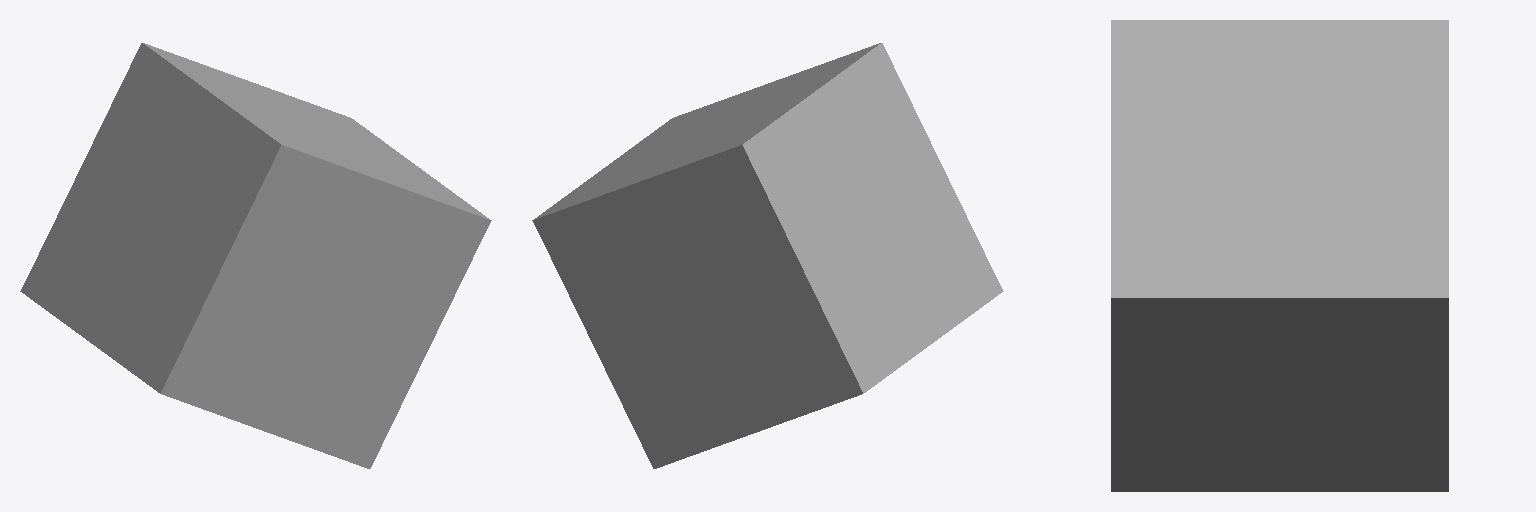
robot.urdf — turtlebot3_burger:
<?xml version="1.0" ?>
<robot name="turtlebot3_burger"
  xmlns:xacro="http://ros.org/wiki/xacro">
  <!-- <xacro:include filename="$(find turtlebot3_description)/urdf/common_properties.urdf"/> -->

  <!-- Init colour -->
  <material name="black">
      <color rgba="0.0 0.0 0.0 1.0"/>
  </material>

  <material name="dark">
    <color rgba="0.3 0.3 0.3 1.0"/>
  </material>

  <material name="light_black">
    <color rgba="0.4 0.4 0.4 1.0"/>
  </material>

  <material name="blue">
    <color rgba="0.0 0.0 0.8 1.0"/>
  </material>

  <material name="green">
    <color rgba="0.0 0.8 0.0 1.0"/>
  </material>

  <material name="grey">
    <color rgba="0.5 0.5 0.5 1.0"/>
  </material>

  <material name="orange">
    <color rgba="1.0 0.4235 0.0392 1.0"/>
  </material>

  <material name="brown">
    <color rgba="0.8706 0.8118 0.7647 1.0"/>
  </material>

  <material name="red">
    <color rgba="0.8 0.0 0.0 1.0"/>
  </material>

  <material name="white">
    <color rgba="1.0 1.0 1.0 1.0"/>
  </material>

  <link name="base_footprint"/>

  <joint name="base_joint" type="fixed">
    <parent link="base_footprint"/>
    <child link="base_link"/>
    <origin xyz="0.0 0.0 0.010" rpy="0 0 0"/>
  </joint>

  <link name="base_link">
    <visual>
      <origin xyz="-0.032 0 0.0" rpy="0 0 0"/>
      <geometry>
        <mesh filename="package://turtlebot3_gazebo/models/turtlebot3_common/meshes/burger_base.stl" scale="0.001 0.001 0.001"/>
      </geometry>
      <material name="light_black"/>
    </visual>

    <collision>
      <origin xyz="-0.032 0 0.070" rpy="0 0 0"/>
      <geometry>
        <box size="0.140 0.140 0.143"/>
      </geometry>
    </collision>

    <inertial>
      <origin xyz="0 0 0" rpy="0 0 0"/>
      <mass value="8.2573504e-01"/>
      <inertia ixx="2.2124416e-03" ixy="-1.2294101e-05" ixz="3.4938785e-05" iyy="2.1193702e-03" iyz="-5.0120904e-06" izz="2.0064271e-03" />
    </inertial>
  </link>

  <joint name="wheel_left_joint" type="continuous">
    <parent link="base_link"/>
    <child link="wheel_left_link"/>
    <origin xyz="0.0 0.08 0.023" rpy="-1.57 0 0"/>
    <axis xyz="0 0 1"/>
  </joint>

  <link name="wheel_left_link">
    <visual>
      <origin xyz="0 0 0" rpy="1.57 0 0"/>
      <geometry>
        <mesh filename="package://turtlebot3_gazebo/models/turtlebot3_common/meshes/left_tire.stl" scale="0.001 0.001 0.001"/>
      </geometry>
      <material name="dark"/>
    </visual>

    <collision>
      <origin xyz="0 0 0" rpy="0 0 0"/>
      <geometry>
        <cylinder length="0.018" radius="0.033"/>
      </geometry>
    </collision>

    <inertial>
      <origin xyz="0 0 0" />
      <mass value="2.8498940e-02" />
      <inertia ixx="1.1175580e-05" ixy="-4.2369783e-11" ixz="-5.9381719e-09" iyy="1.1192413e-05" iyz="-1.4400107e-11" izz="2.0712558e-05" />
    </inertial>
  </link>

  <joint name="wheel_right_joint" type="continuous">
    <parent link="base_link"/>
    <child link="wheel_right_link"/>
    <origin xyz="0.0 -0.080 0.023" rpy="-1.57 0 0"/>
    <axis xyz="0 0 1"/>
  </joint>

  <link name="wheel_right_link">
    <visual>
      <origin xyz="0 0 0" rpy="1.57 0 0"/>
      <geometry>
        <mesh filename="package://turtlebot3_gazebo/models/turtlebot3_common/meshes/right_tire.stl" scale="0.001 0.001 0.001"/>
      </geometry>
      <material name="dark"/>
    </visual>

    <collision>
      <origin xyz="0 0 0" rpy="0 0 0"/>
      <geometry>
        <cylinder length="0.018" radius="0.033"/>
      </geometry>
    </collision>

    <inertial>
      <origin xyz="0 0 0" />
      <mass value="2.8498940e-02" />
      <inertia ixx="1.1175580e-05" ixy="-4.2369783e-11" ixz="-5.9381719e-09" iyy="1.1192413e-05" iyz="-1.4400107e-11" izz="2.0712558e-05" />
    </inertial>
  </link>

  <joint name="caster_back_joint" type="fixed">
    <parent link="base_link"/>
    <child link="caster_back_link"/>
    <origin xyz="-0.081 0 -0.004" rpy="-1.57 0 0"/>
  </joint>

  <link name="caster_back_link">
    <collision>
      <origin xyz="0 0.001 0" rpy="0 0 0"/>
      <geometry>
        <box size="0.030 0.009 0.020"/>
      </geometry>
    </collision>

    <inertial>
      <origin xyz="0 0 0" />
      <mass value="0.005" />
      <inertia ixx="0.001" ixy="0.0" ixz="0.0" iyy="0.001" iyz="0.0" izz="0.001" />
    </inertial>
  </link>

  <joint name="imu_joint" type="fixed">
    <parent link="base_link"/>
    <child link="imu_link"/>
    <origin xyz="-0.032 0 0.068" rpy="0 0 0"/>
  </joint>

  <link name="imu_link"/>

  <joint name="scan_joint" type="fixed">
    <parent link="base_link"/>
    <child link="base_scan"/>
    <origin xyz="-0.032 0 0.172" rpy="0 0 0"/>
  </joint>

  <link name="base_scan">
    <visual>
      <origin xyz="0 0 0.0" rpy="0 0 0"/>
      <geometry>
        <mesh filename="package://turtlebot3_gazebo/models/turtlebot3_common/meshes/lidar.stl" scale="0.001 0.001 0.001"/>
      </geometry>
      <material name="dark"/>
    </visual>

    <collision>
      <origin xyz="0.015 0 -0.0065" rpy="0 0 0"/>
      <geometry>
        <cylinder length="0.0315" radius="0.055"/>
      </geometry>
    </collision>

    <inertial>
      <mass value="0.114" />
      <origin xyz="0 0 0" />
      <inertia ixx="0.001" ixy="0.0" ixz="0.0" iyy="0.001" iyz="0.0" izz="0.001" />
    </inertial>
  </link>

  <joint name="camera_joint" type="fixed">
    <origin xyz="0.03 2 0.11" rpy="0 0.524 0"/>
    <parent link="base_link"/>
    <child link="camera_link"/>
    <axis xyz="0 1 0" />
  </joint>

  <link name="camera_link">
    <inertial>
      <mass value="0.001"/>
      <origin xyz="0 0 0" rpy="0 0 0"/>
      <inertia
          ixx="1e-6" ixy="0" ixz="0"
          iyy="1e-6" iyz="0"
          izz="1e-6"
      />
    </inertial>

    <visual>
     <origin xyz="0 0 0" rpy="0 0 0"/>
      <geometry>
       <box size=".02 .02 .02"/>
      </geometry>
    </visual>

    <collision name='collision'>
      <origin xyz="0 0 0" rpy="0 0 0"/> 
      <geometry>
        <box size=".01 .01 .01"/>
      </geometry>
    </collision>
  </link>

  <joint name="camera_optical_joint" type="fixed">
    <origin xyz="0 0 0" rpy="-1.57 0 -1.57"/>
    <parent link="camera_link"/>
    <child link="camera_link_optical"/>
  </joint>
  <link name="camera_link_optical"/>

</robot>

--- Render facts (derived) ---
Views: 3 orthographic renders of the robot side by side, from view 1: azimuth 30°, elevation 25°; view 2: azimuth 150°, elevation 25°; view 3: azimuth 270°, elevation 25°.
Robot: turtlebot3_burger — 9 links, 8 joints (2 continuous, 6 fixed); root link base_footprint; default pose: every joint at zero.
Links seen in each view (by area): view 1: camera_link; view 2: camera_link; view 3: camera_link.
Link boxes in pixels (box(x1,y1,x2,y2)): camera_link: box(20, 43, 491, 468); camera_link: box(532, 43, 1003, 468); camera_link: box(1111, 20, 1448, 491).
Bounding box of the posed robot: 0.0273 × 0.02 × 0.0273 m (x, y, z).
0 mesh visuals loaded from 4 distinct referenced files (none loaded); not drawn: 4 (reference not matched to a file when rendering).